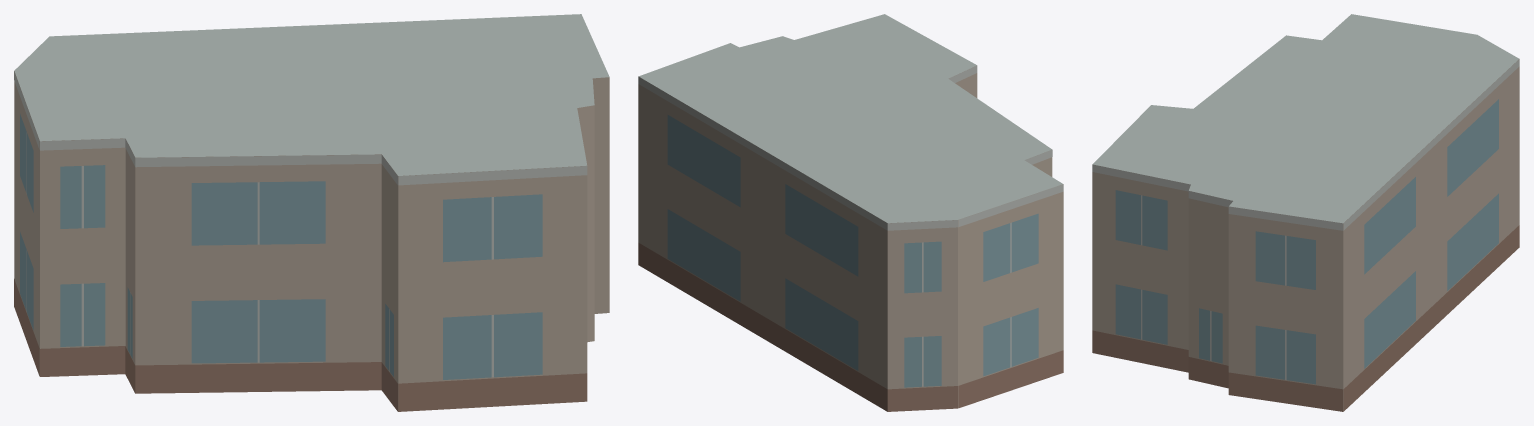
The model's file is survey-upis-32657889.glb.
The picture shows the model from 3 angles, left to right: view 1: azimuth 30°, elevation 25°; view 2: azimuth 150°, elevation 25°; view 3: azimuth 270°, elevation 25°; orthographic projection. The views are drawn at different scales.
Visible parts, largest first — view 1: survey-upis-32657889.tmp; view 2: survey-upis-32657889.tmp; view 3: survey-upis-32657889.tmp.
Part boxes in pixels (x1,y1,x2,y2): survey-upis-32657889.tmp: (14,14,609,411); survey-upis-32657889.tmp: (638,14,1063,411); survey-upis-32657889.tmp: (1092,14,1519,411).
Size of the model in its own units: 14.53 by 6.1 by 12.53.
